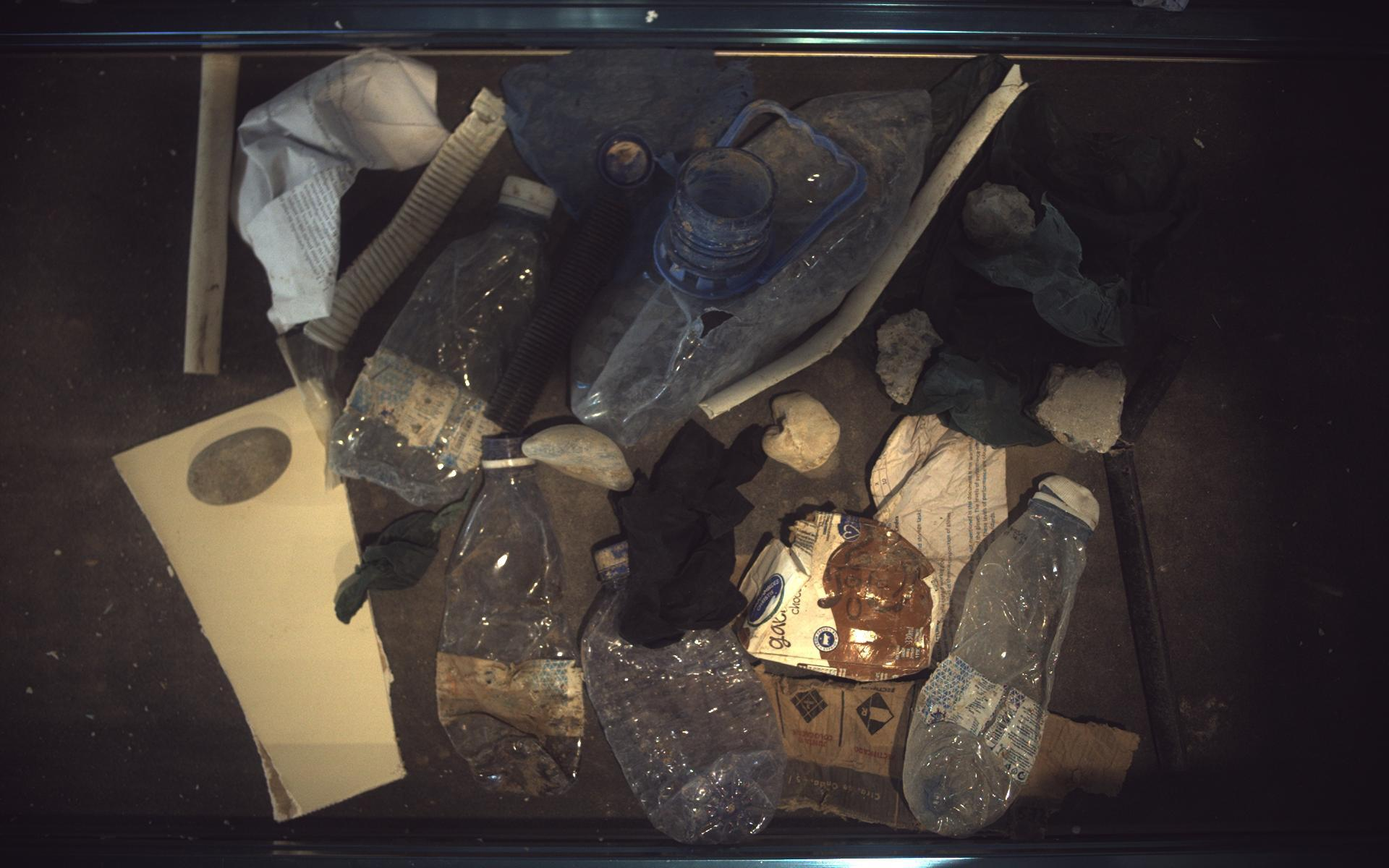concrete: (878, 308, 944, 404)
general_w: (572, 89, 933, 445), (889, 92, 1199, 446), (328, 176, 556, 507), (905, 476, 1102, 838), (582, 541, 788, 846), (232, 48, 449, 333), (502, 48, 755, 281), (437, 435, 585, 797), (611, 420, 768, 649), (872, 415, 1009, 664), (742, 514, 943, 682), (757, 663, 920, 830), (981, 715, 1143, 842), (334, 480, 476, 624), (927, 52, 1013, 179), (276, 327, 341, 449), (598, 132, 655, 189), (325, 467, 340, 489)
gypsum_board: (112, 375, 404, 820)
pipes: (700, 63, 1031, 418), (303, 86, 506, 352), (485, 195, 629, 433), (1106, 444, 1189, 773), (182, 51, 239, 375), (1122, 336, 1194, 444)
stone: (1035, 361, 1129, 454), (186, 427, 291, 506), (523, 424, 635, 492), (764, 392, 841, 472)
